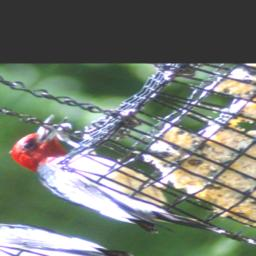Woodpecker: (0, 109, 256, 254)
